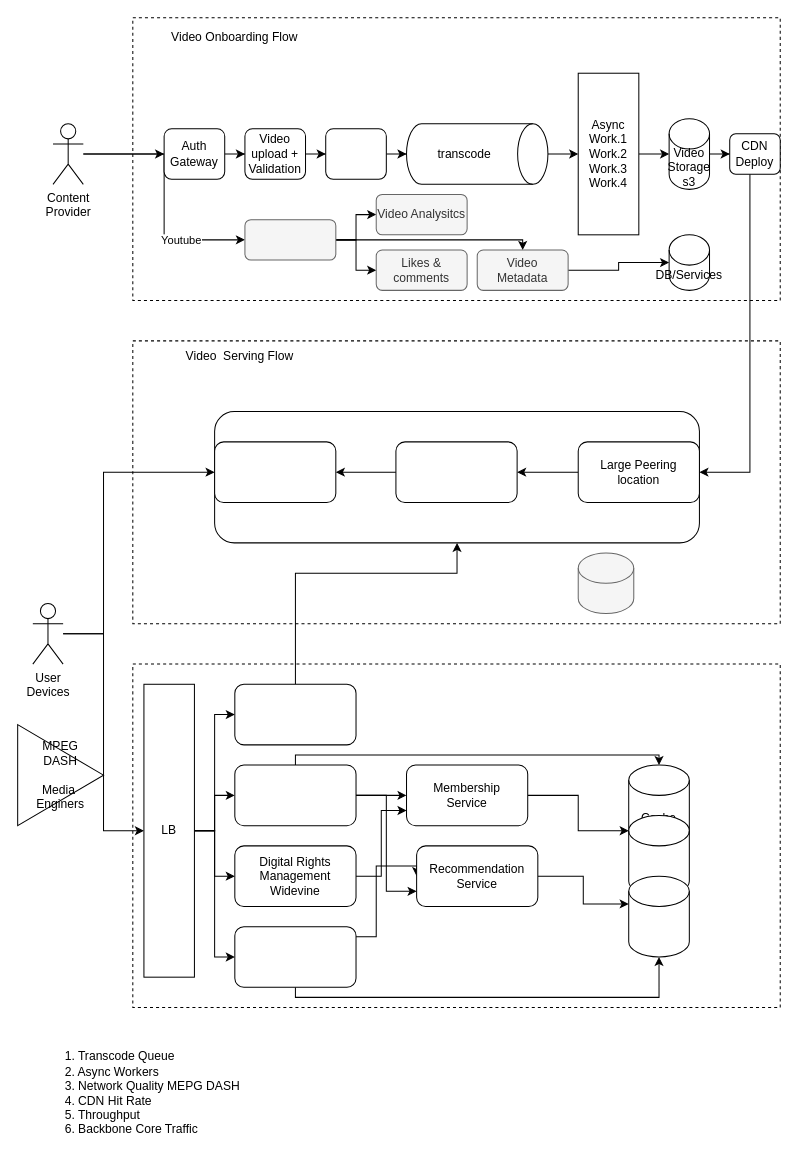
This 798x1156 diagram has some shape labels left out. Here are the shapes that lost their labels. From the top down, the centre of each, then its label:
At pixel 355 153: "Video Segmentation".
At pixel 290 239: "Video Studio".
At pixel 275 471: "ISP/IXP CDN Open Connect".
At pixel 456 471: "Small Peering location".
At pixel 605 583: "Youtube Disk".
At pixel 295 714: "CDN Cache Manager".
At pixel 295 795: "List Services".
At pixel 658 855: "DB".
At pixel 658 916: "Blob Storage".
At pixel 295 956: "DetailService".
